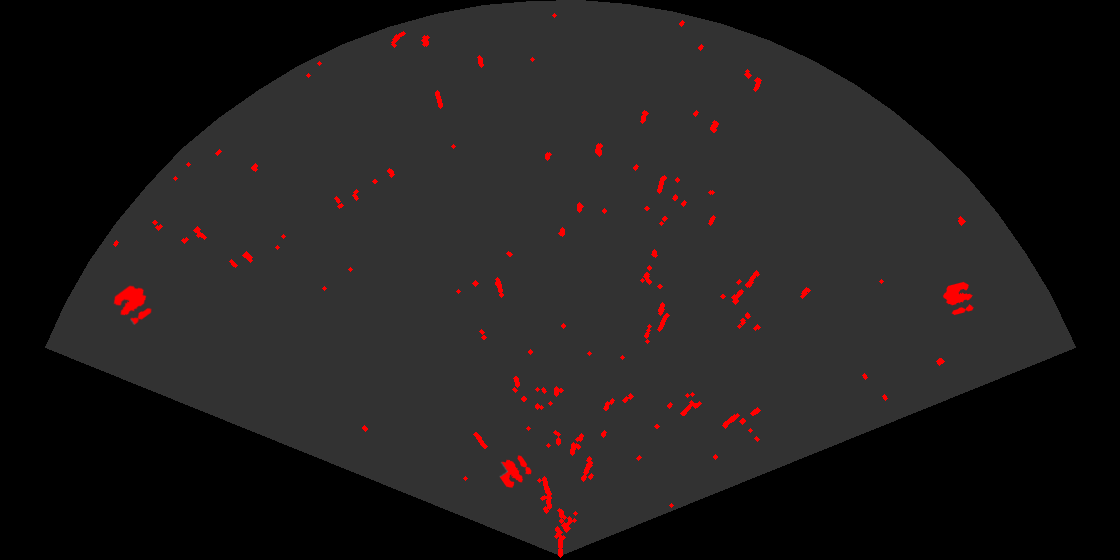ball: (112, 284, 153, 326), (941, 280, 975, 317), (498, 454, 533, 489)
